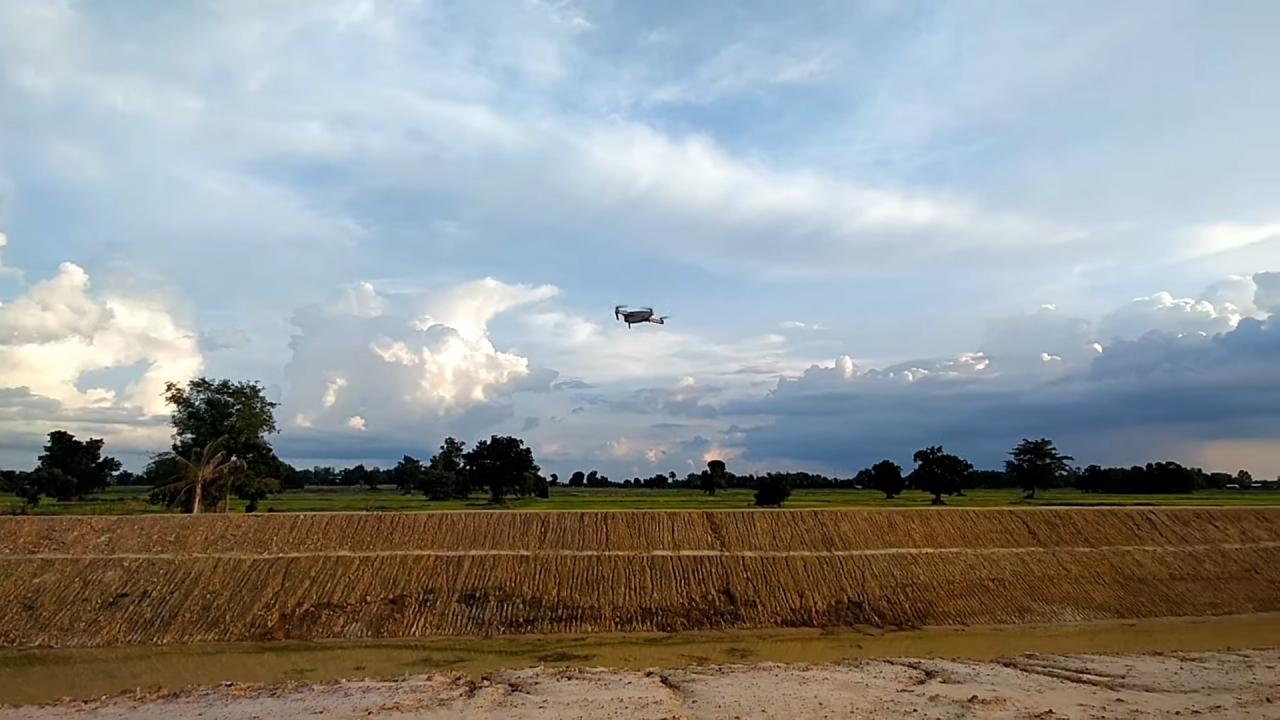Drone: (601, 296, 674, 338)
